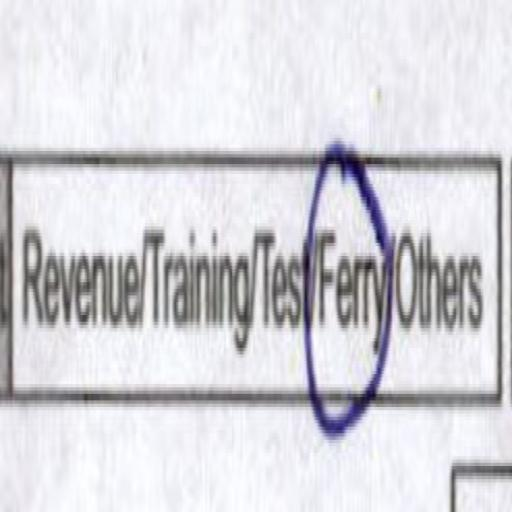check: (306, 116, 390, 481)
